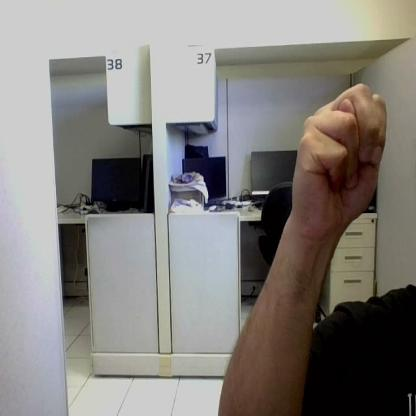N: (292, 83, 386, 234)
